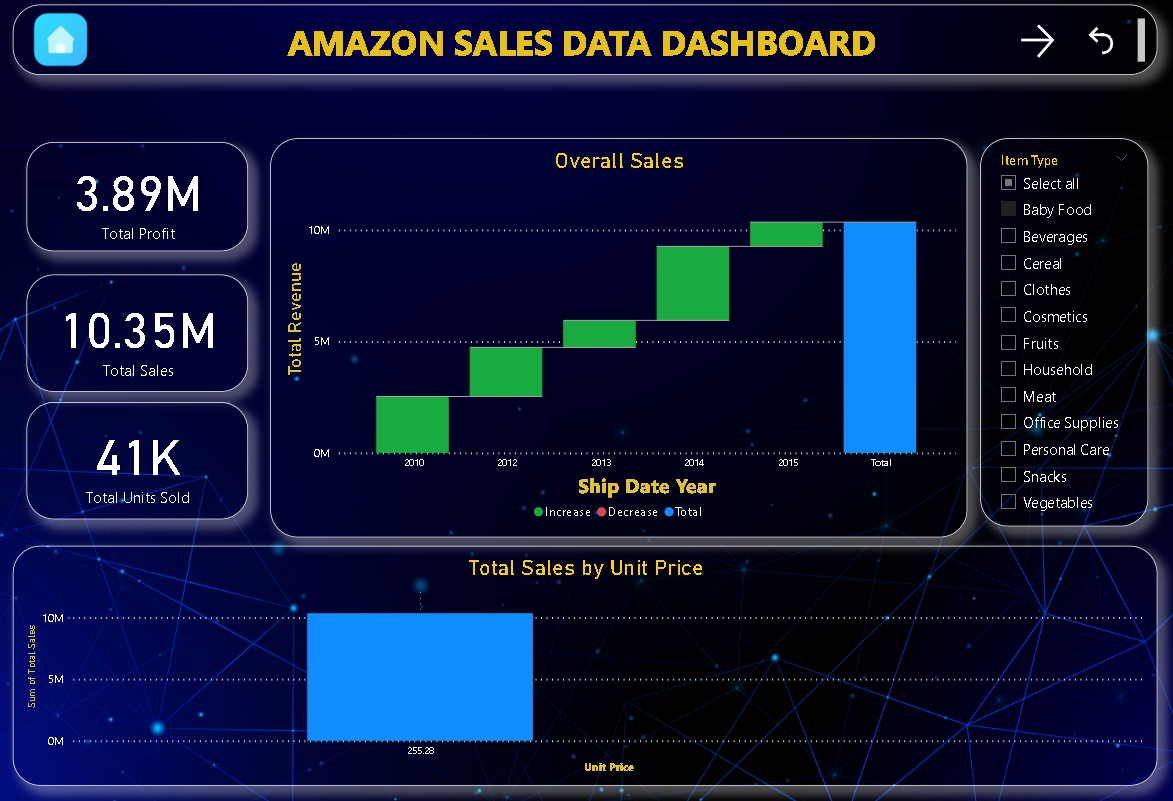

The page's visual inventory and layout, read from the dashboard file:
{"tool":"powerbi","page":{"name":"Product Analysis","canvas":[1280,879],"ordinal":1},"visuals":[{"type":"textbox","box":[15.6,8.5,1247.6,76.7],"z":0},{"type":"card","fields":{"Values":["Sum(Amazon Sales data.Units Sold)"]},"box":[29.8,441.9,241.6,127.9],"z":1000},{"type":"card","fields":{"Values":["Sum(Amazon Sales data.Total Sales)"]},"box":[29.8,302.7,241.6,127.9],"z":2000},{"type":"card","fields":{"Values":["Sum(Amazon Sales data.Total Profit)"]},"box":[29.8,157.7,241.6,119.4],"z":3000},{"type":"waterfallChart","title":"Overall Sales","fields":{"Y":["Sum(Amazon Sales data.Total Revenue)"],"Category":["Amazon Sales data.Ship Date.Variation.Date Hierarchy.Year","Amazon Sales data.Ship Date.Variation.Date Hierarchy.Month"]},"box":[295.6,153.5,760.2,434.8],"z":4000},{"type":"slicer","fields":{"Values":["Amazon Sales data.Item Type"]},"box":[1070,153.5,183.3,423.4],"z":5000},{"type":"clusteredColumnChart","title":"Total Sales by Unit Price","fields":{"Category":["Amazon Sales data.Unit Price"],"Y":["Sum(Amazon Sales data.Total Sales)"]},"box":[15.6,598.2,1247.6,261.5],"z":6000},{"type":"actionButton","box":[1181.4,27.1,48.6,40],"z":7000},{"type":"actionButton","box":[1108.6,24.3,64.3,47.1],"z":8000},{"type":"image","box":[30,7.1,74.3,78.6],"z":9000}]}

Visuals, with their boxes in screenshot pixels (x1, y1, x2, y2), scaled from the page's 1280x879 canvas onto the 1173x801 screenshot:
textbox: {"left": 14, "top": 8, "right": 1158, "bottom": 78}
card - Sum(Amazon Sales data.Units Sold): {"left": 27, "top": 403, "right": 249, "bottom": 519}
card - Sum(Amazon Sales data.Total Sales): {"left": 27, "top": 276, "right": 249, "bottom": 392}
card - Sum(Amazon Sales data.Total Profit): {"left": 27, "top": 144, "right": 249, "bottom": 253}
"Overall Sales" waterfallChart: {"left": 271, "top": 140, "right": 968, "bottom": 536}
slicer - Amazon Sales data.Item Type: {"left": 981, "top": 140, "right": 1149, "bottom": 526}
"Total Sales by Unit Price" clusteredColumnChart: {"left": 14, "top": 545, "right": 1158, "bottom": 783}
actionButton: {"left": 1083, "top": 25, "right": 1127, "bottom": 61}
actionButton: {"left": 1016, "top": 22, "right": 1075, "bottom": 65}
image: {"left": 27, "top": 6, "right": 96, "bottom": 78}
